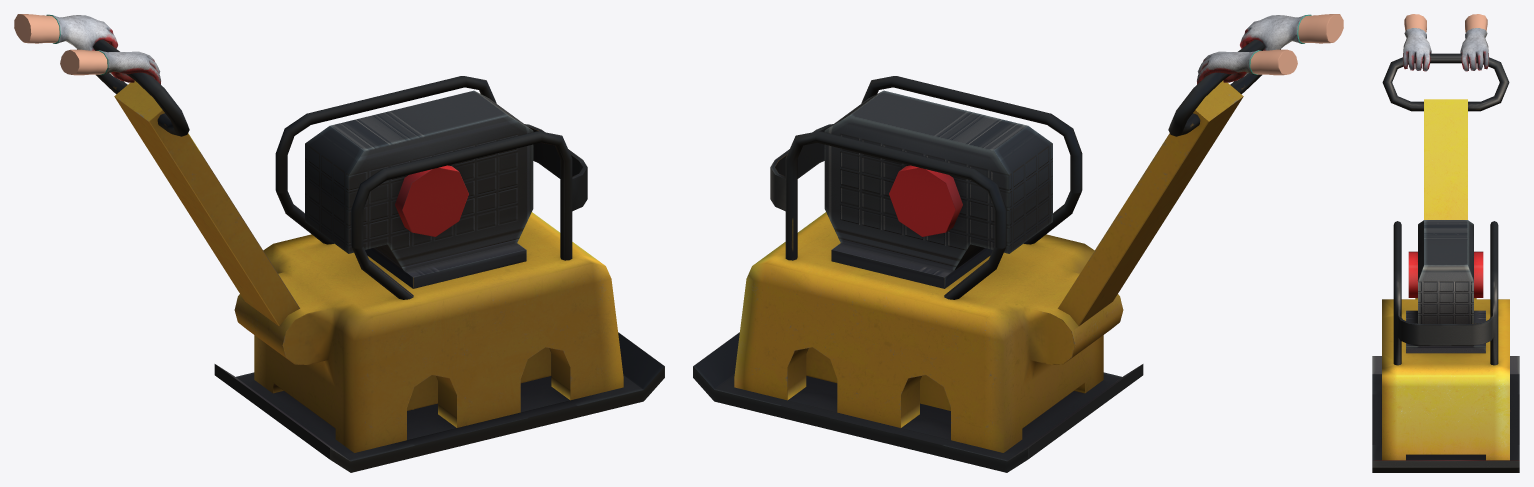
Rendered from compacter.fbx.
The picture shows the model from 3 angles, left to right: view 1: azimuth 30°, elevation 25°; view 2: azimuth 150°, elevation 25°; view 3: azimuth 270°, elevation 25°; orthographic projection. The views are drawn at different scales.
Visible parts, largest first — view 1: body, handle, Hand_cut; view 2: body, handle, Hand_cut; view 3: body, handle, Hand_cut.
Part boxes in pixels (x1=…): body: x1=214, y1=76, x2=664, y2=472; handle: x1=77, y1=39, x2=299, y2=325; Hand_cut: x1=14, y1=14, x2=160, y2=84; body: x1=693, y1=76, x2=1143, y2=472; handle: x1=1058, y1=39, x2=1280, y2=325; Hand_cut: x1=1197, y1=14, x2=1343, y2=84; body: x1=1372, y1=220, x2=1519, y2=472; handle: x1=1382, y1=53, x2=1509, y2=219; Hand_cut: x1=1403, y1=14, x2=1488, y2=71.
Size of the model in its own units: 163 by 126 by 57.86.
